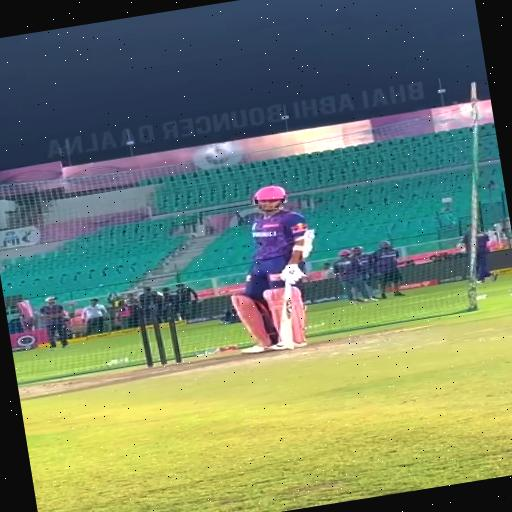Cricket bat: (279, 283, 295, 348)
